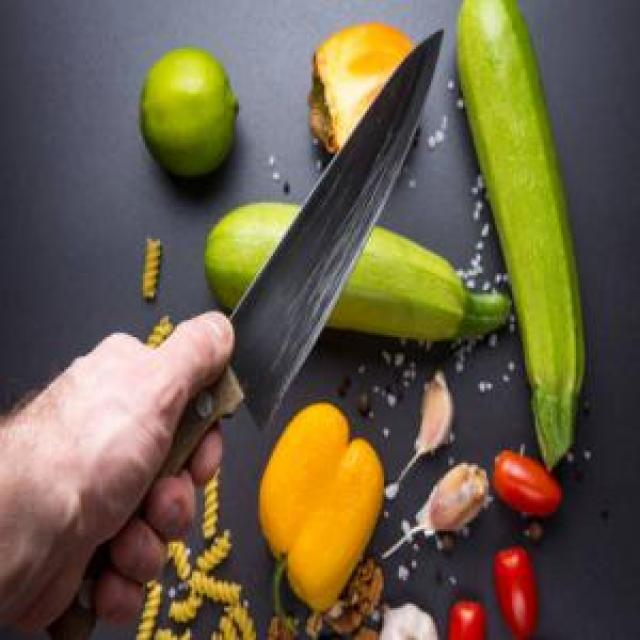knife: (130, 15, 451, 495)
